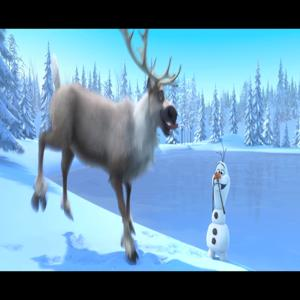olaf: (212, 145, 240, 259)
sven: (45, 38, 176, 265)
